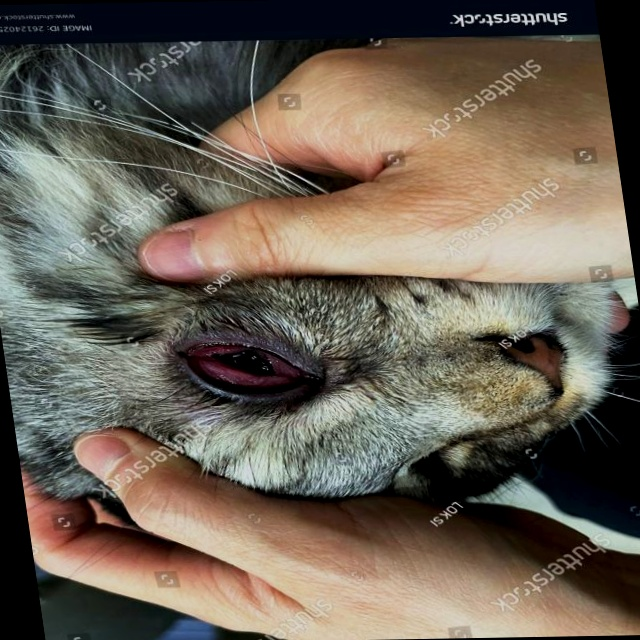eye_infection: (177, 340, 316, 399)
